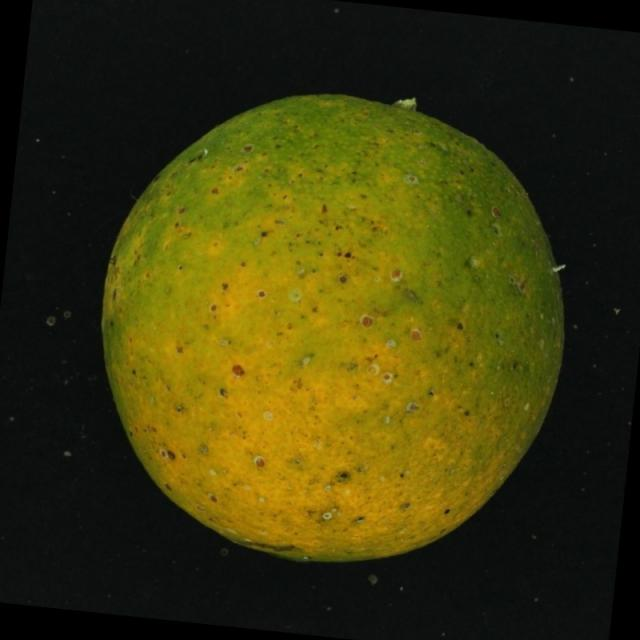grenning: (68, 64, 602, 586)
